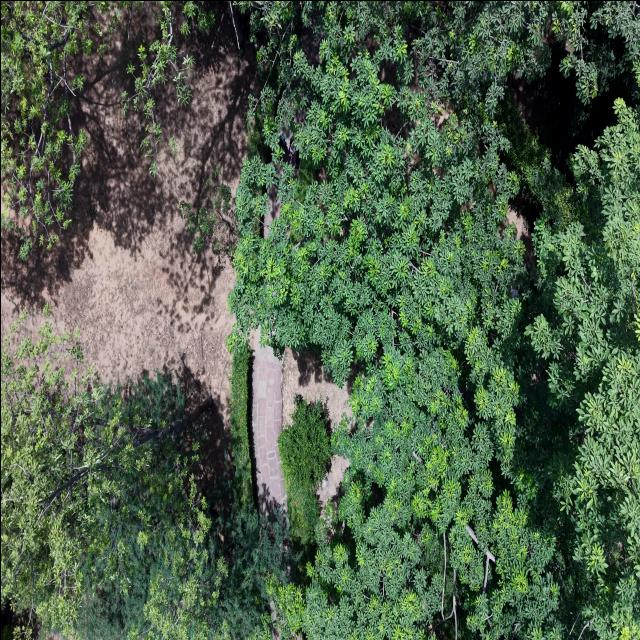DRY_AREA: (1, 5, 255, 465), (1, 5, 255, 463), (1, 5, 254, 437), (1, 8, 254, 305), (1, 217, 233, 394), (251, 330, 351, 512), (252, 331, 351, 512), (253, 347, 357, 501), (507, 41, 616, 177), (507, 38, 615, 173), (274, 347, 358, 430), (250, 330, 287, 514), (251, 329, 286, 514), (251, 331, 286, 513), (280, 347, 357, 426), (282, 347, 357, 426), (283, 347, 357, 426), (281, 347, 351, 424), (282, 348, 352, 425), (283, 347, 351, 424), (500, 204, 536, 269), (317, 455, 349, 509), (1, 601, 27, 629), (46, 632, 62, 639)
VEGETATION_TREE: (1, 1, 639, 639), (231, 2, 639, 639), (231, 3, 569, 638), (231, 3, 518, 381), (1, 320, 285, 639), (1, 321, 225, 637), (525, 98, 639, 637), (1, 1, 213, 257), (1, 322, 132, 633), (153, 350, 286, 639), (1, 2, 114, 256), (187, 350, 286, 639), (213, 347, 291, 639), (122, 1, 213, 175), (213, 496, 291, 639), (279, 396, 331, 543), (179, 176, 234, 253), (230, 346, 253, 501), (1, 605, 12, 639)
